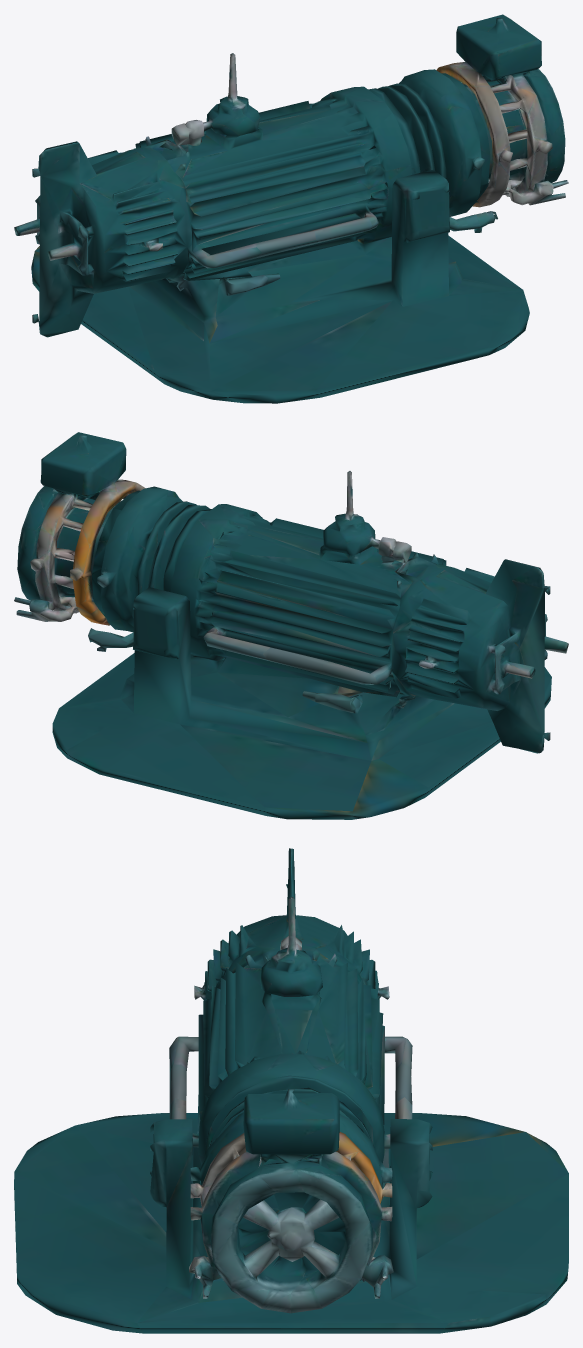
3 renders of one model, top to bottom at view 1: azimuth 30°, elevation 25°; view 2: azimuth 150°, elevation 25°; view 3: azimuth 270°, elevation 25°, orthographic. The views are drawn at different scales.
Bounding box in the file's own units: 1.9 × 0.9176 × 1.52.
Materials: 1 (1 with a texture image).
